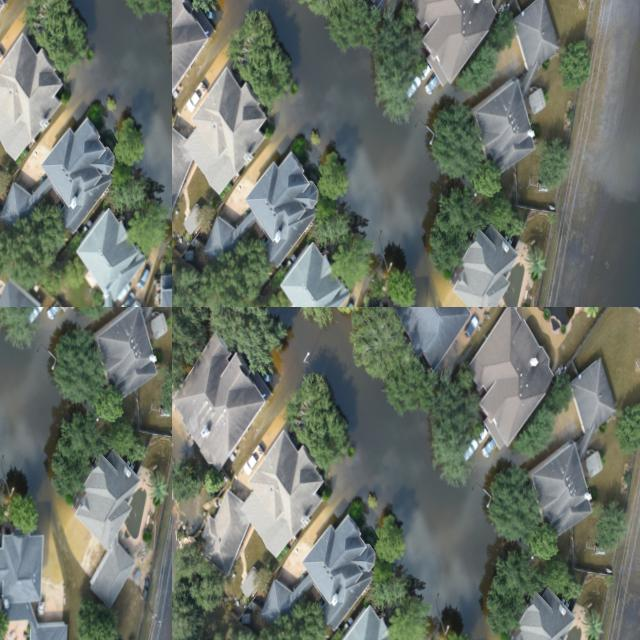fire: (232, 307, 499, 634), (299, 0, 486, 307), (21, 307, 172, 640)
